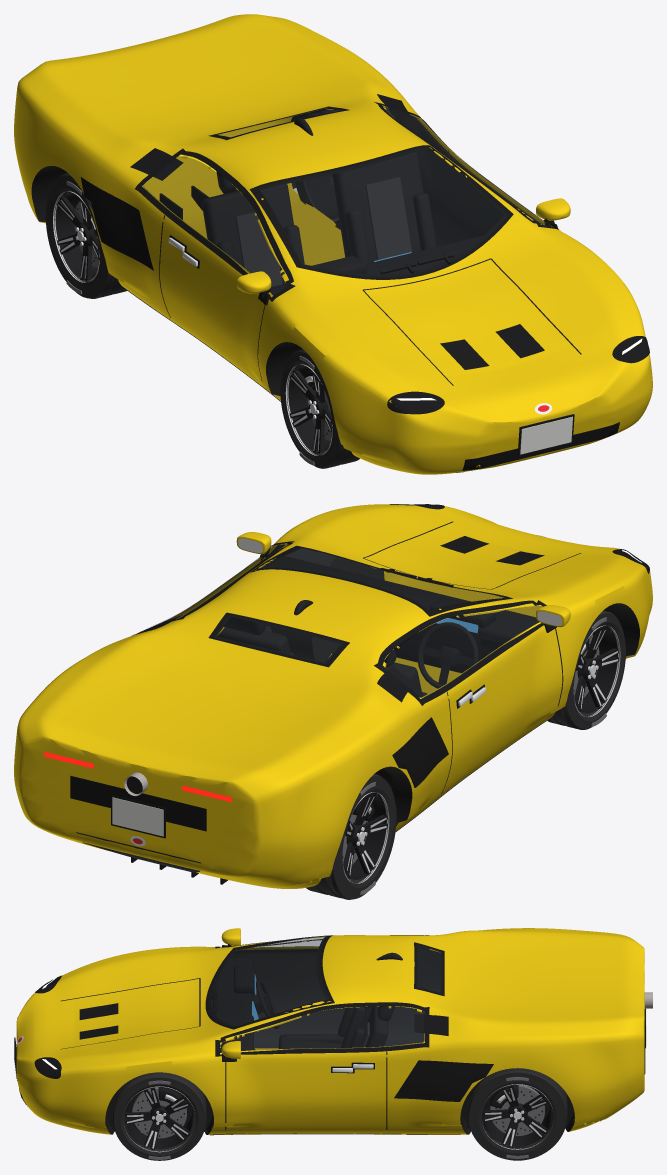
The model's file is 296gtb.glb.
3 renders of one model, top to bottom at view 1: azimuth 30°, elevation 25°; view 2: azimuth 150°, elevation 25°; view 3: azimuth 270°, elevation 25°, orthographic. The views are drawn at different scales.
Visible parts, largest first — view 1: Body, Wheel_RR, Wheel_FR, Wheel_RL; view 2: Body, Wheel_RR, Wheel_FR; view 3: Body, Wheel_RL, Wheel_FL.
Boxes of the visible parts, x1,y1,x2,y2 form: Body: (14,14,652,474); Wheel_RR: (45,173,127,298); Wheel_FR: (280,349,359,468); Wheel_RL: (295,109,340,229); Body: (14,503,652,888); Wheel_RR: (306,774,396,899); Wheel_FR: (547,610,625,729); Body: (14,928,652,1135); Wheel_RL: (468,1068,567,1160); Wheel_FL: (113,1072,206,1160).
Bounding box in the file's own units: 2.12 × 1.24 × 4.64.
